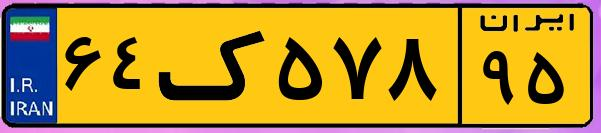4: (110, 28, 158, 98)
5: (270, 28, 330, 110), (525, 38, 570, 115)
6: (57, 26, 110, 100)
7: (330, 28, 385, 110)
8: (385, 28, 445, 110)
9: (475, 38, 525, 113)
ک: (158, 12, 270, 120)
